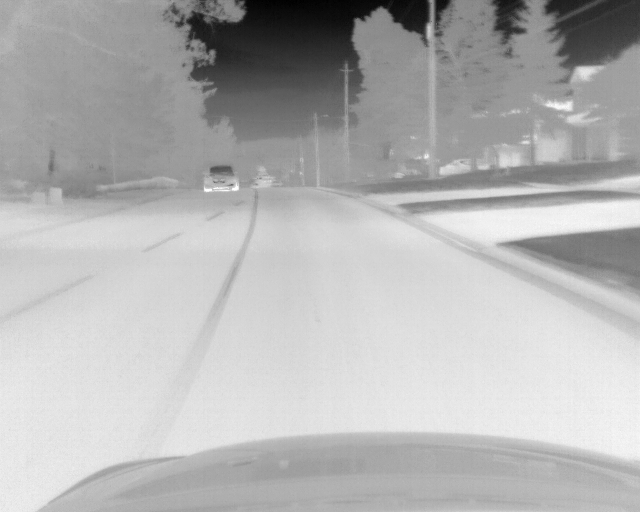car: (202, 166, 239, 192), (441, 157, 491, 175)
